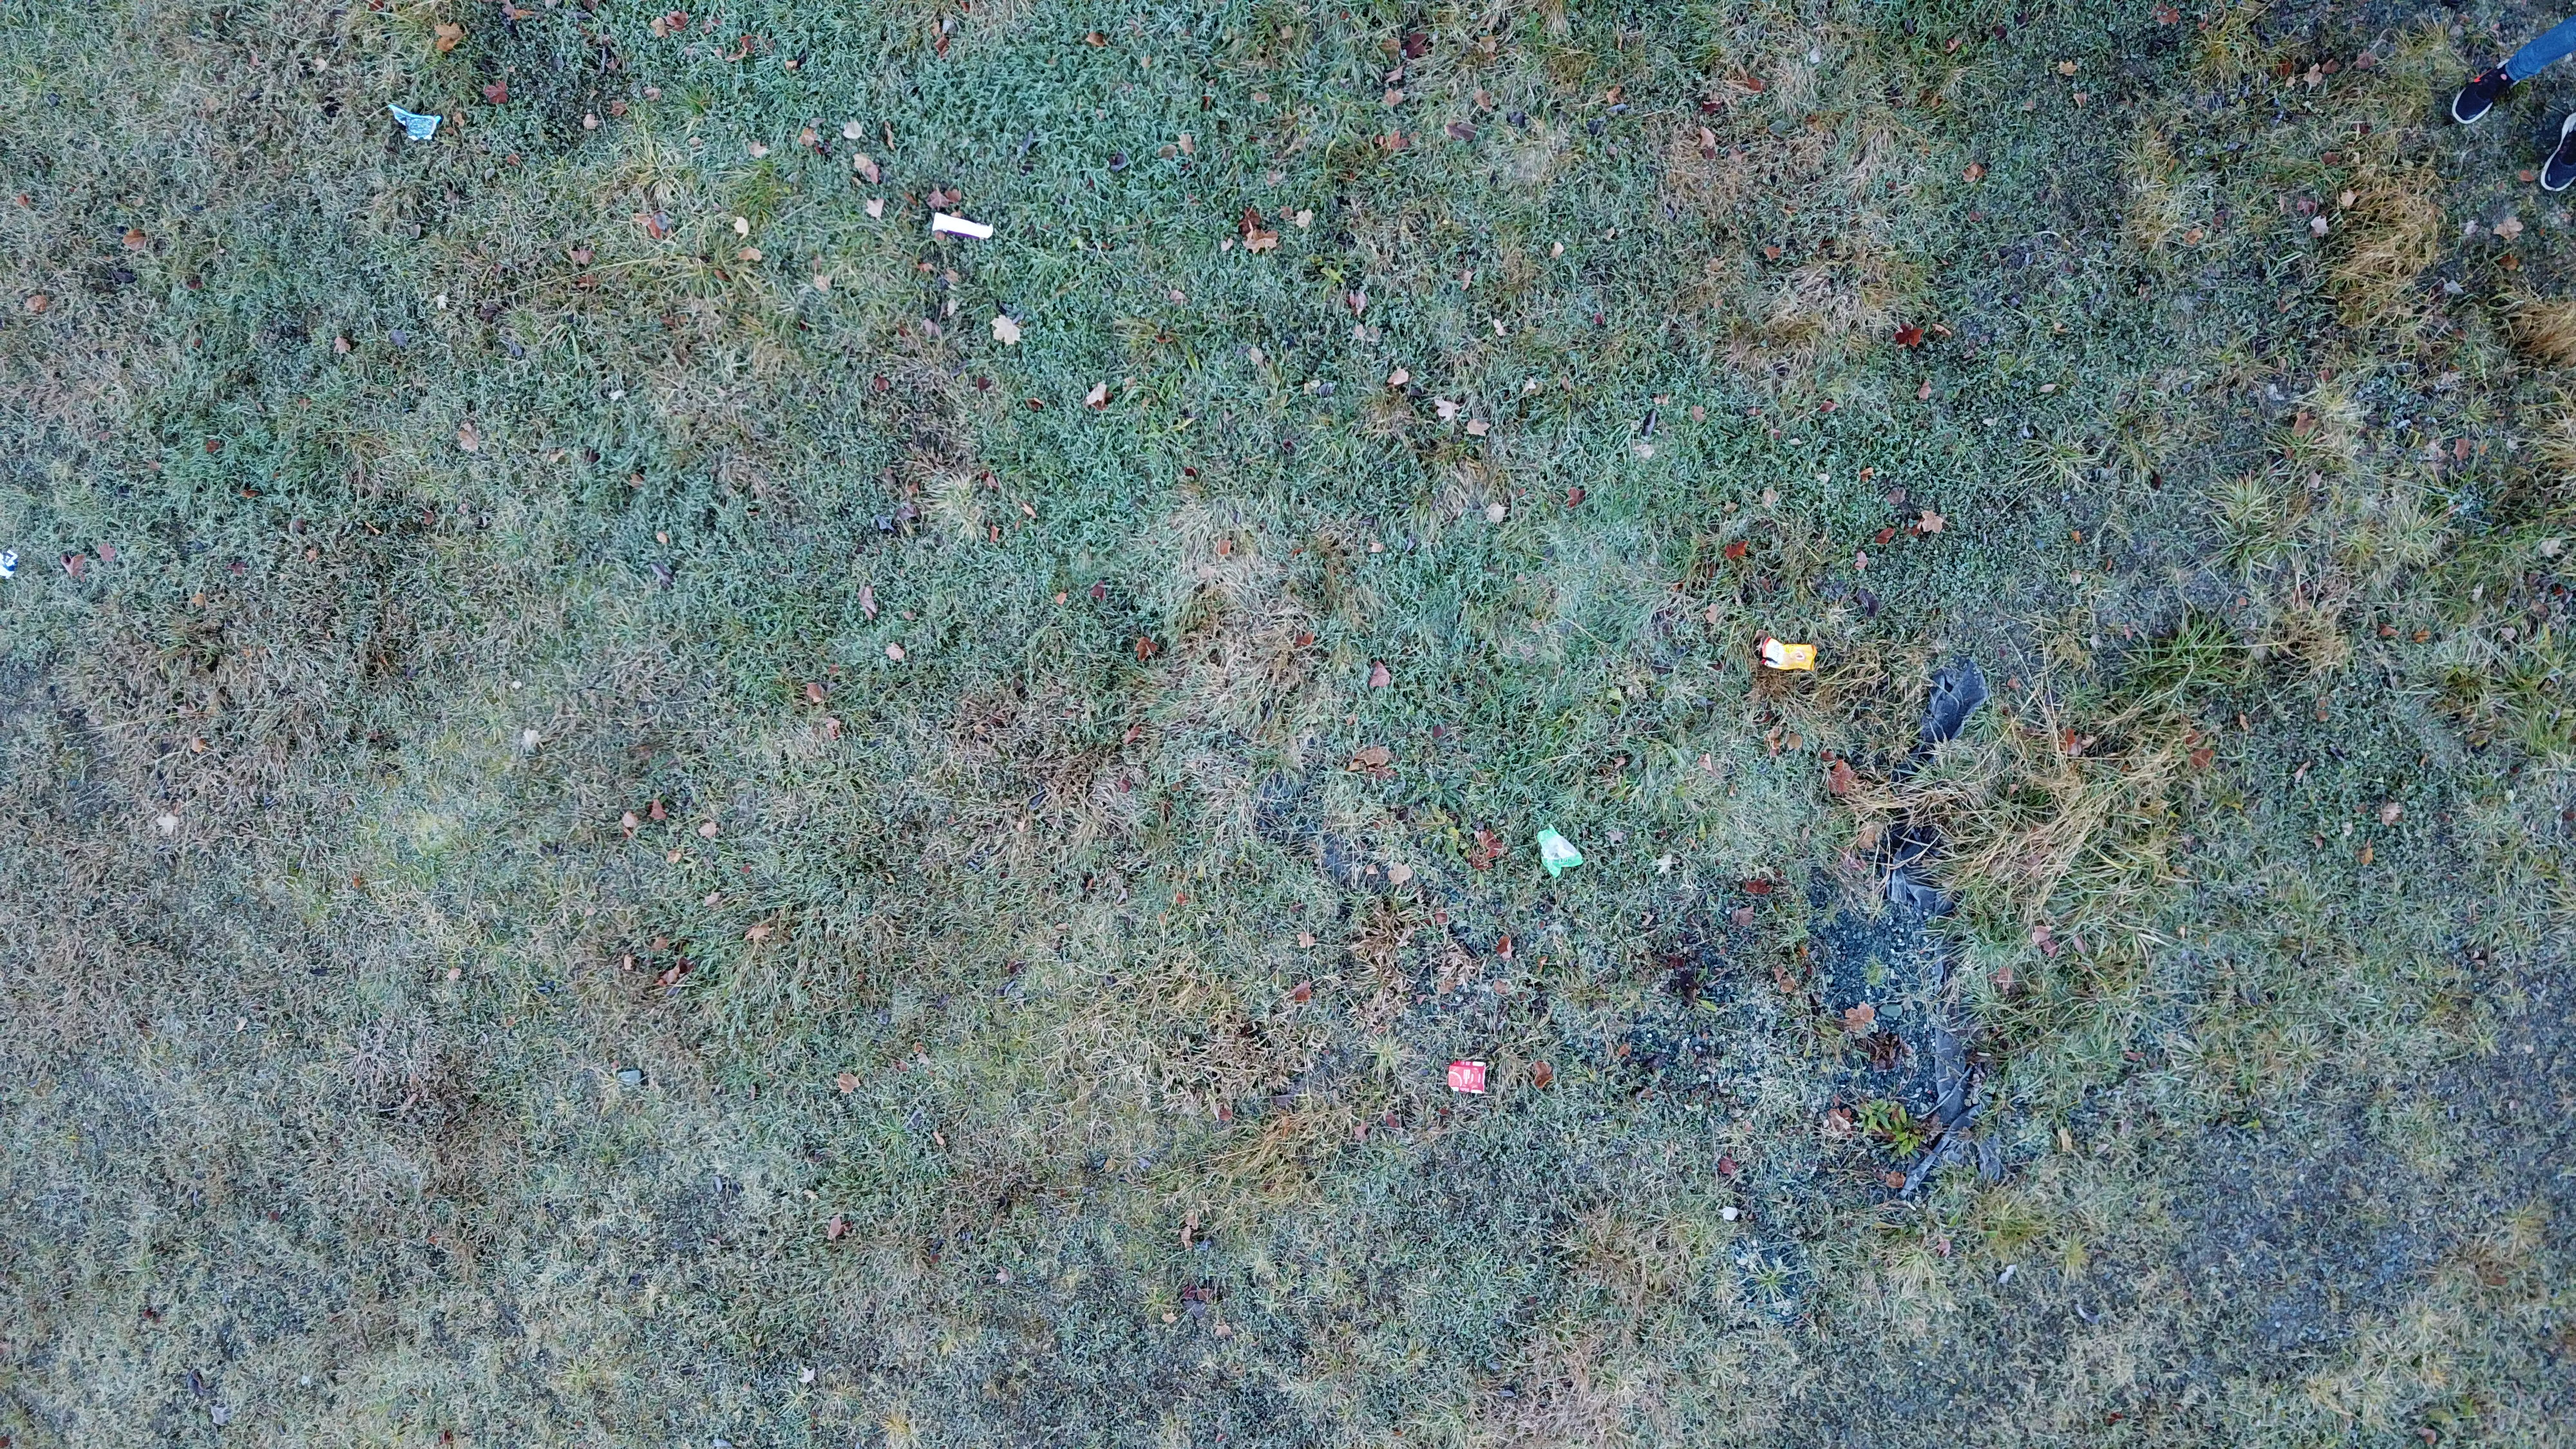Plastic: (1534, 826, 1587, 878), (1759, 637, 1817, 672), (387, 104, 442, 142), (931, 211, 994, 241), (1449, 1060, 1488, 1095), (0, 548, 19, 580)
